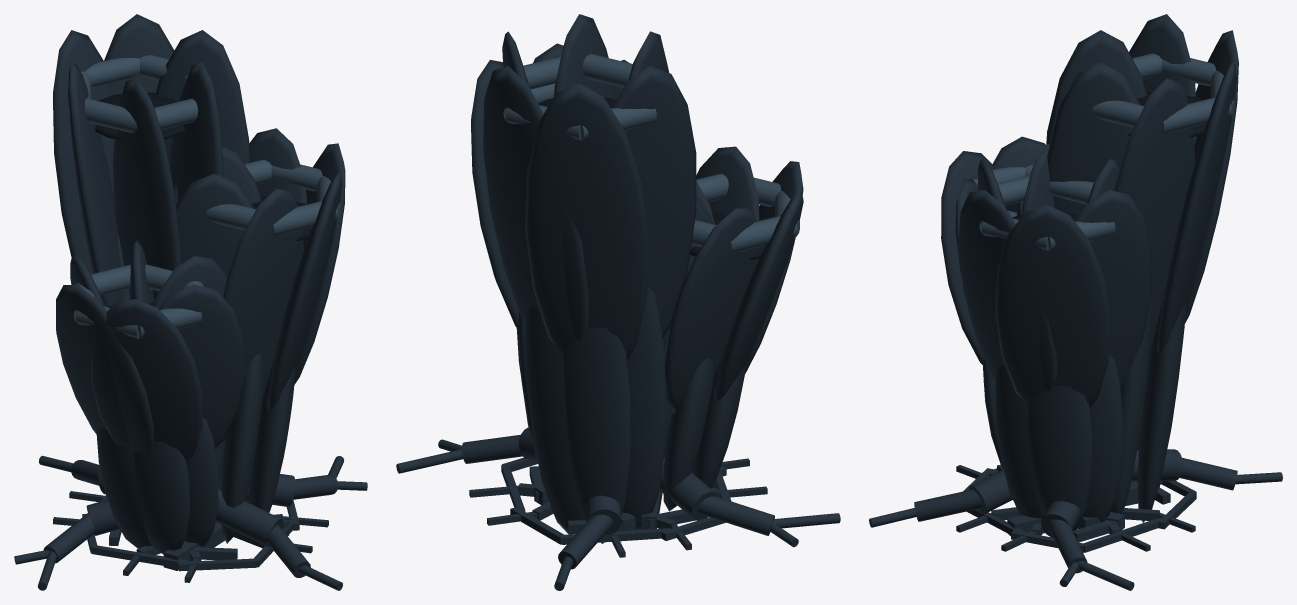
Rendered from CMU3DHiveHiveClusterXeno.glb.
The picture shows the model from 3 angles, left to right: view 1: azimuth 30°, elevation 25°; view 2: azimuth 150°, elevation 25°; view 3: azimuth 270°, elevation 25°; orthographic projection. The views are drawn at different scales.
Parts seen in each view (by area): view 1: flared chimney bell (×18), tapered chimney trunk (×5), rolled organic lip (×11), sinuous anchoring root (×7), interwoven root loop (×2), connected ground rhizome (×2), recessed chimney throat; view 2: flared chimney bell (×11), tapered chimney trunk (×6), sinuous anchoring root (×7), rolled organic lip (×5), interwoven root loop (×3); view 3: flared chimney bell (×15), tapered chimney trunk (×6), sinuous anchoring root (×7), rolled organic lip (×7), interwoven root loop, connected ground rhizome.
Part boxes in pixels (box(x1,y1,x2,y2)): flared chimney bell (×18): box(53, 14, 345, 462); tapered chimney trunk (×5): box(96, 353, 295, 554); rolled organic lip (×11): box(85, 55, 338, 338); sinuous anchoring root (×7): box(43, 460, 338, 577); interwoven root loop (×2): box(91, 545, 257, 571); connected ground rhizome (×2): box(163, 522, 237, 570); recessed chimney throat: box(95, 92, 185, 139); flared chimney bell (×11): box(471, 14, 803, 413); tapered chimney trunk (×6): box(518, 287, 745, 543); sinuous anchoring root (×7): box(396, 435, 840, 569); rolled organic lip (×5): box(523, 54, 797, 252); interwoven root loop (×3): box(510, 507, 725, 544); flared chimney bell (×15): box(941, 14, 1238, 408); tapered chimney trunk (×6): box(983, 296, 1185, 530); sinuous anchoring root (×7): box(914, 449, 1237, 590); rolled organic lip (×7): box(998, 53, 1231, 250); interwoven root loop: box(1082, 517, 1163, 552); connected ground rhizome: box(1073, 519, 1123, 542).
Size of the model in its own units: 1.07 by 1.32 by 1.06.
